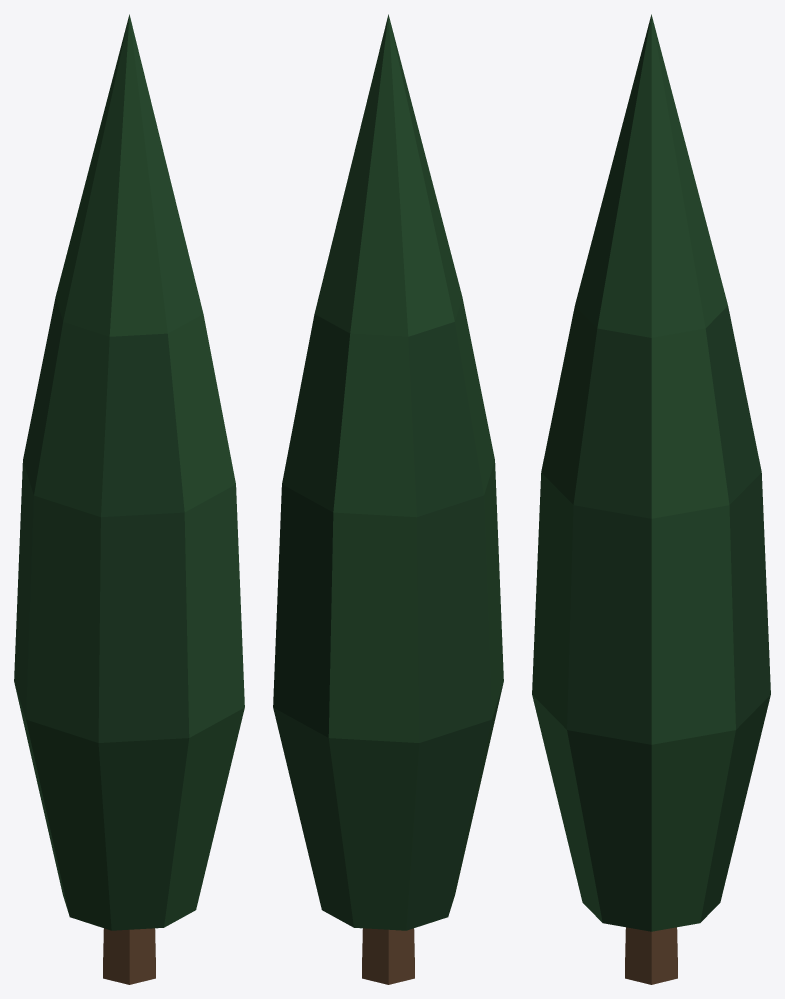
File: cypress.glb
3 renders of one model, left to right at view 1: azimuth 30°, elevation 25°; view 2: azimuth 150°, elevation 25°; view 3: azimuth 270°, elevation 25°, orthographic.
Visible parts, largest first — view 1: cypress2; view 2: cypress2; view 3: cypress2.
Part boxes in pixels (<box>): cypress2: <box>14,14,244,984</box>; cypress2: <box>273,14,503,984</box>; cypress2: <box>532,14,770,984</box>.
Size of the model in its own units: 1.56 by 6.9 by 1.56.
